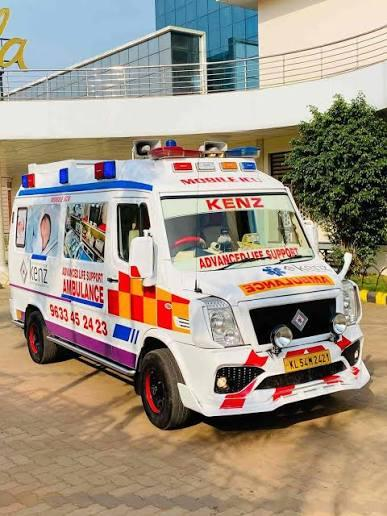ambulance: (8, 134, 369, 427)
